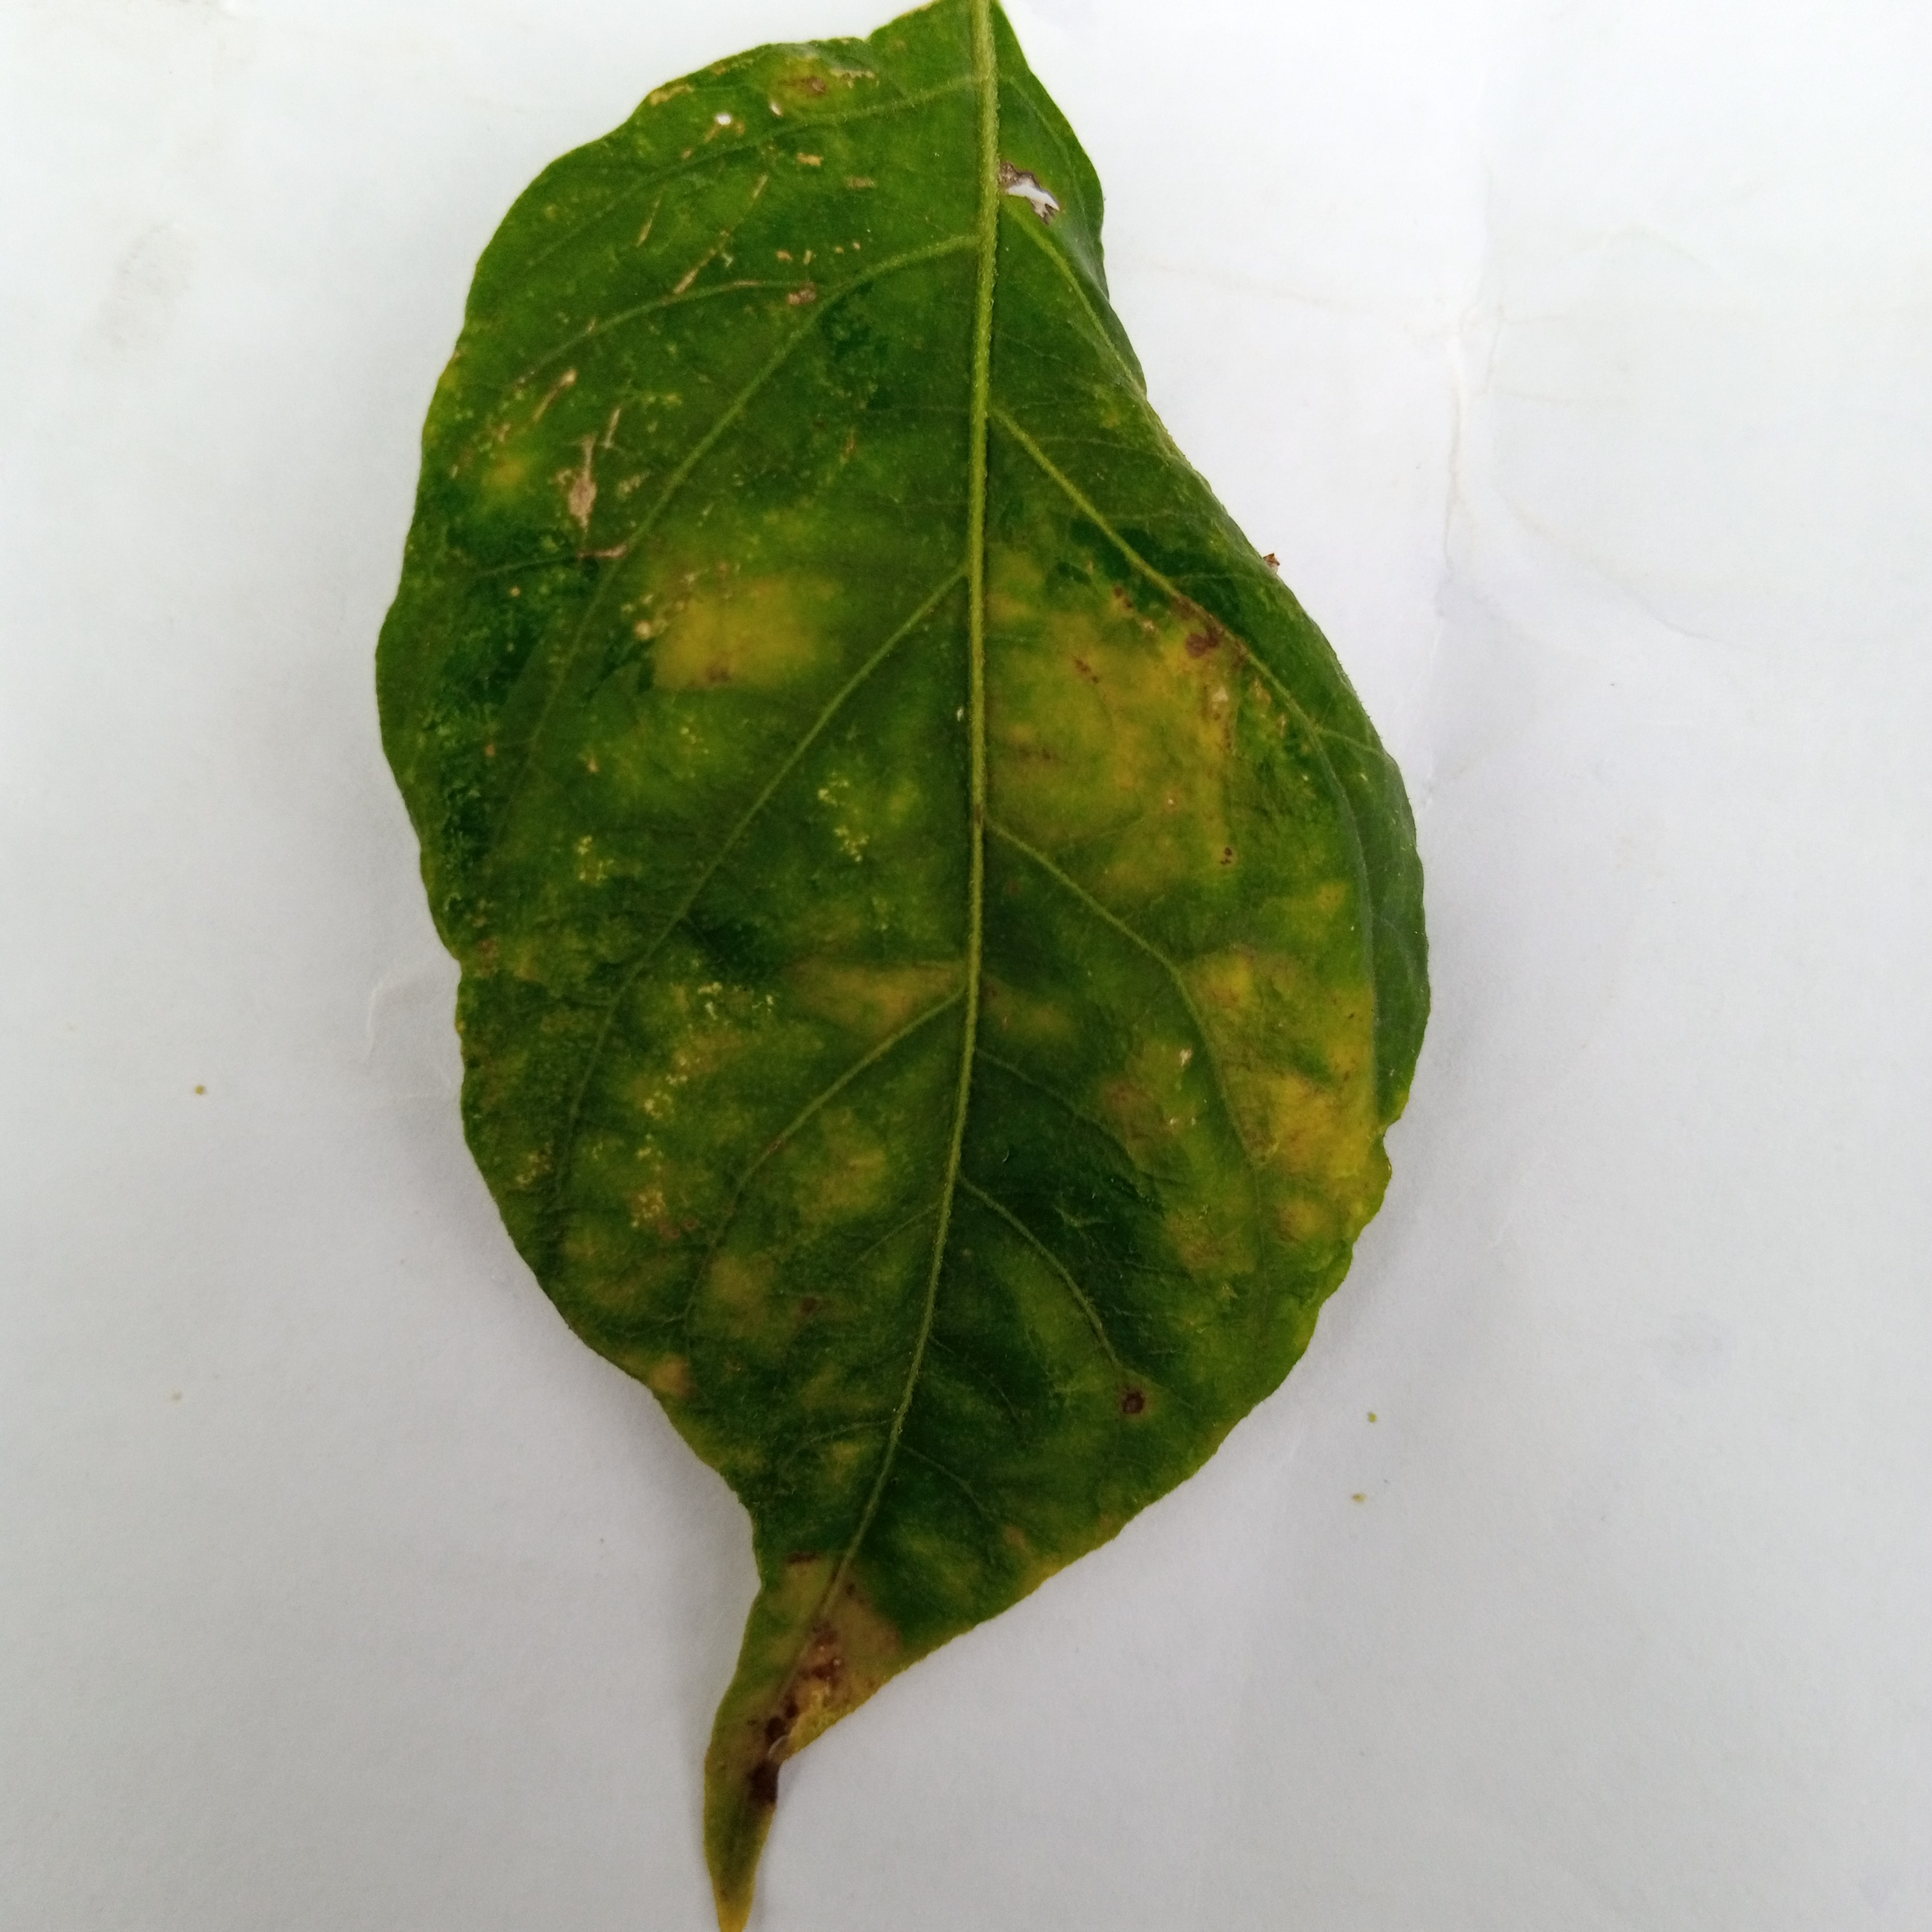Leaf: (311, 2, 1658, 1932)
